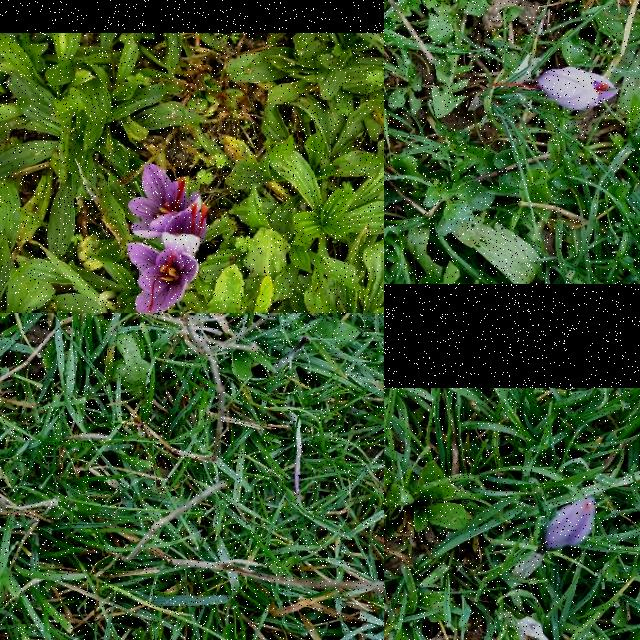flower: (127, 242, 199, 313), (536, 66, 620, 112), (540, 498, 596, 552)
overlap: (126, 162, 210, 256)
